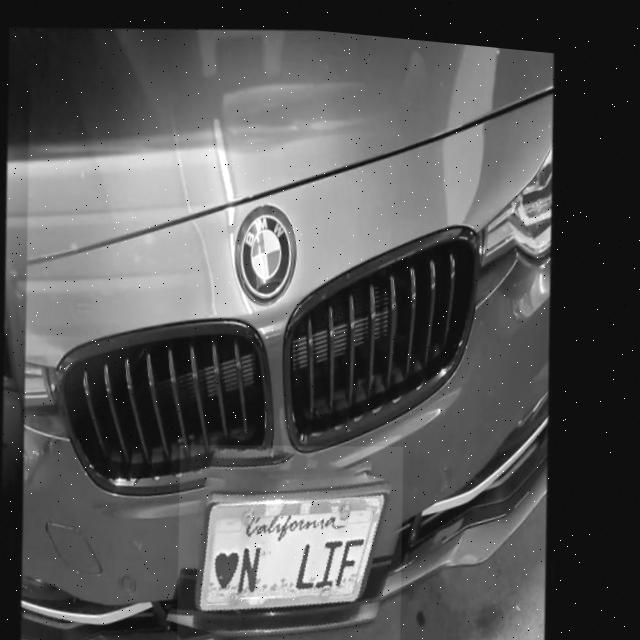LicensePlate: (172, 420, 431, 640)
